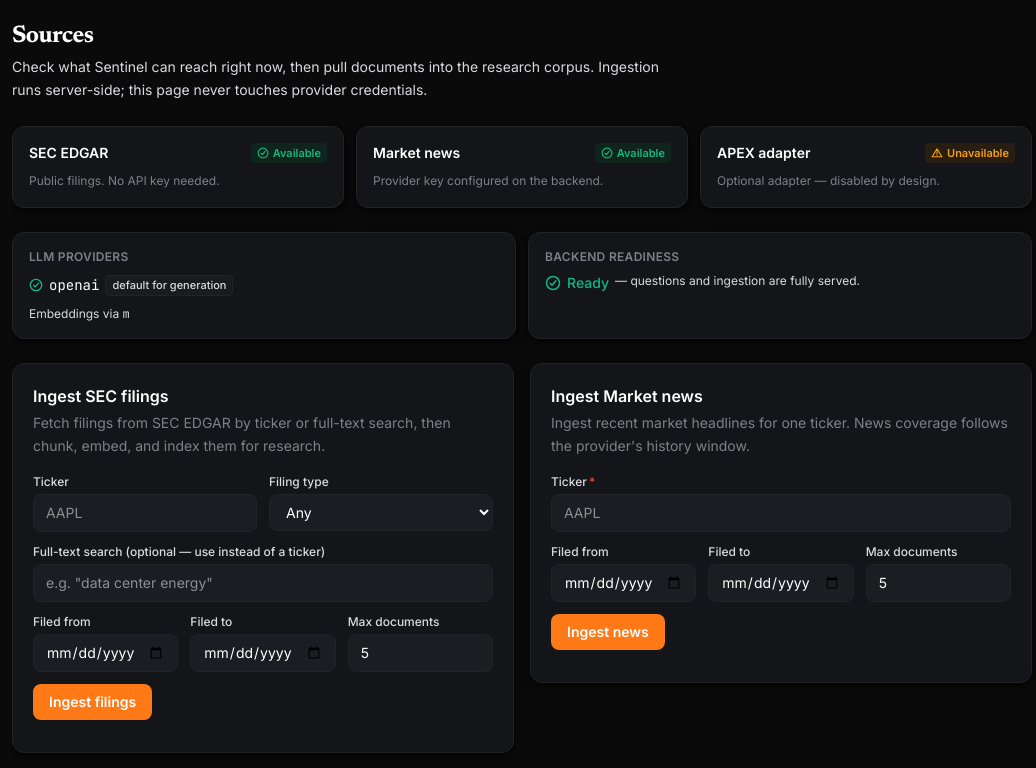
Scenario: keyboard accessibility — sources page › exposes validation problems through aria-invalid and described-by
Check: the heading "Ingest SEC filings" is shown, box [33, 386, 168, 406]
Type "@@@" into the field labelled "Ticker" at (145, 513), box [33, 494, 257, 532]
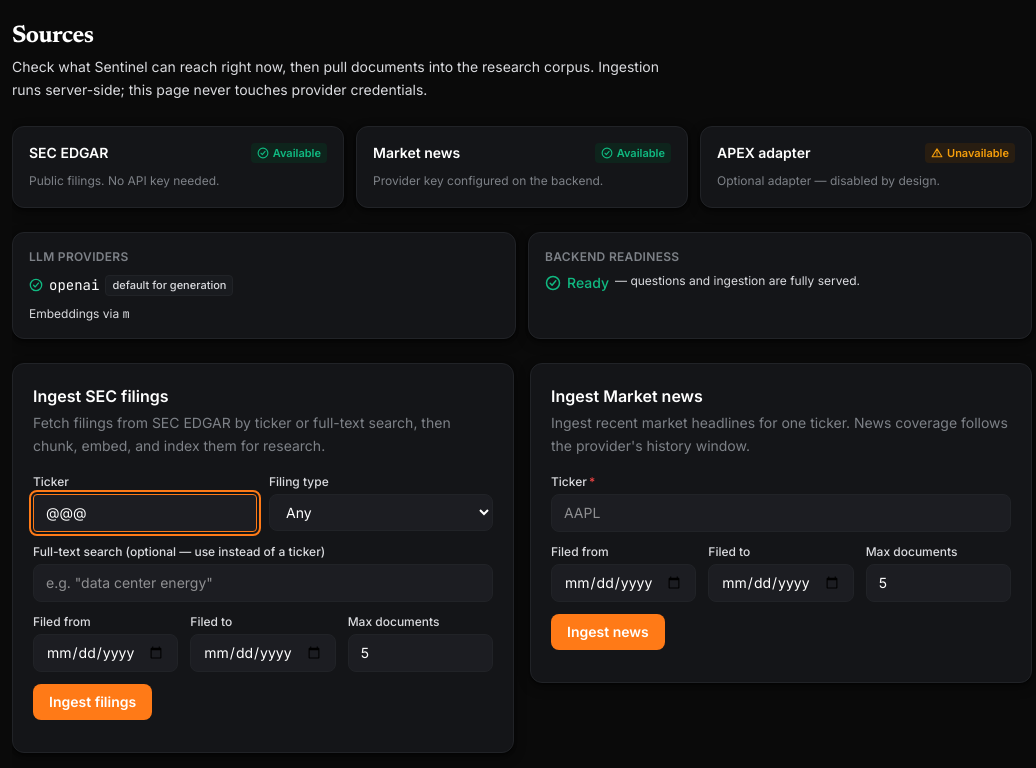
Click the button "Ingest filings" at (93, 702), box [33, 684, 152, 720]
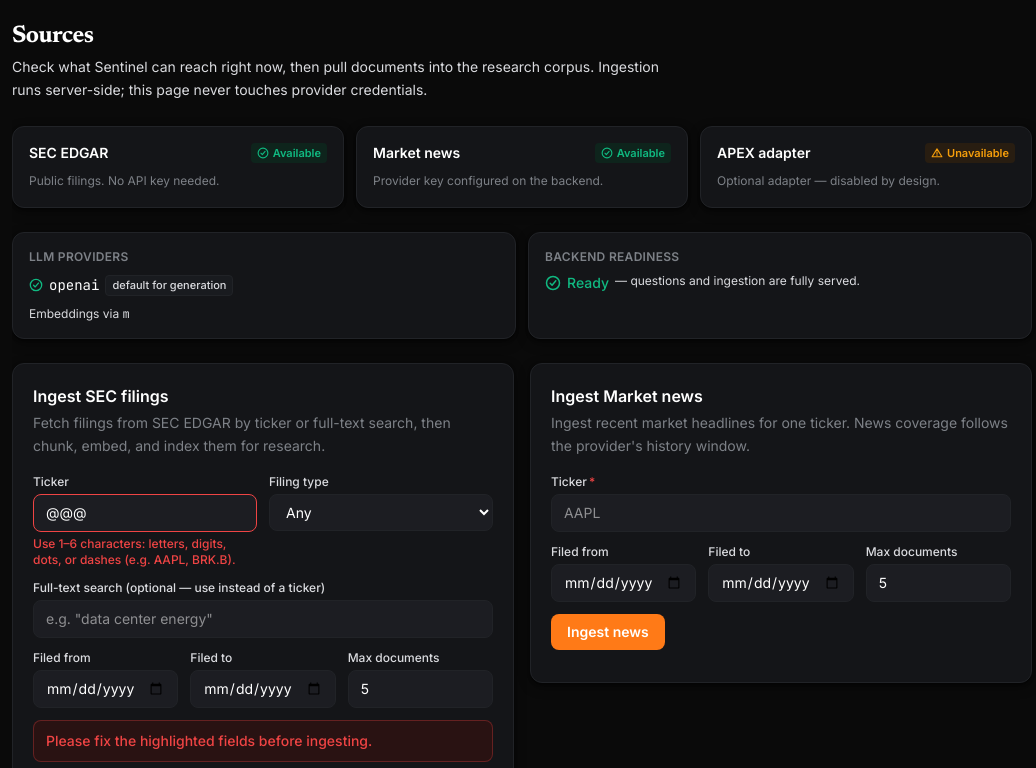
Check: the text with id "sec_filing-ticker-error" shows "1–6 characters", box [33, 536, 236, 567]
